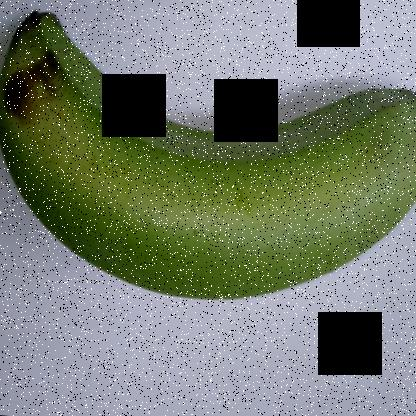freshunripe: (1, 0, 415, 314)
